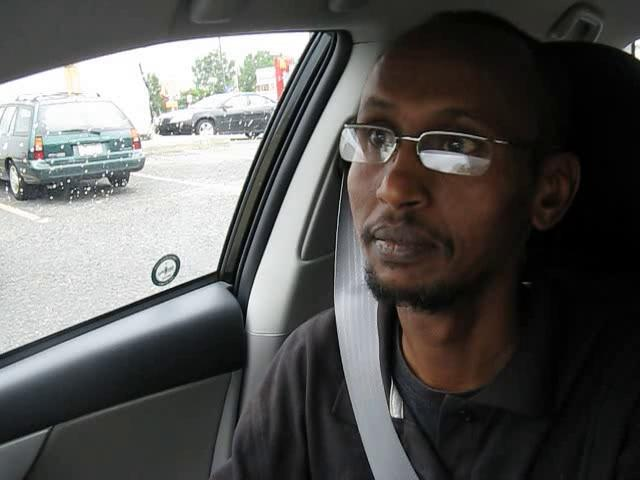no_yawn: (352, 201, 464, 285)
open_eyeL: (345, 115, 410, 165)
open_eyeR: (417, 121, 504, 181)
